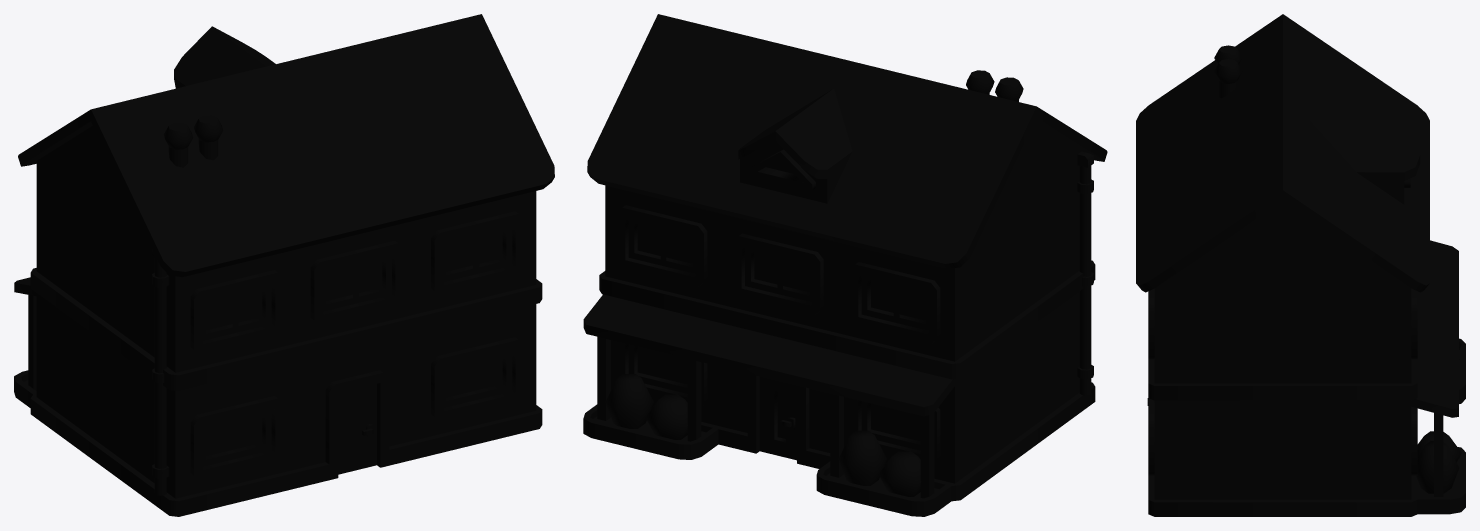
Rendered from building-type-e.glb.
3 renders of one model, left to right at view 1: azimuth 30°, elevation 25°; view 2: azimuth 150°, elevation 25°; view 3: azimuth 270°, elevation 25°, orthographic. The views are drawn at different scales.
Parts seen in each view (by area): view 1: building-type-e; view 2: building-type-e; view 3: building-type-e.
Boxes of the visible parts, x1,y1,x2,y2 form: building-type-e: (14,14,554,516); building-type-e: (583,14,1107,516); building-type-e: (1136,14,1465,516).
Size of the model in its own units: 1.3 by 1.14 by 1.03.
Materials: 1 (1 with a texture image).
